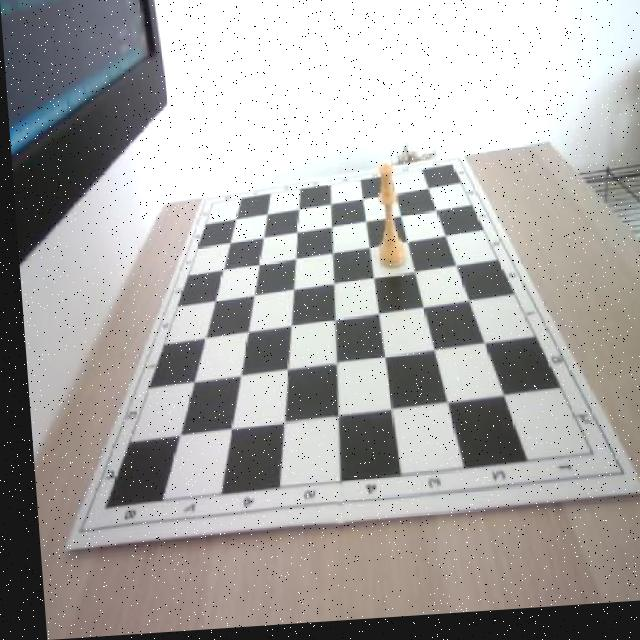white-pawn: (370, 166, 405, 275)
